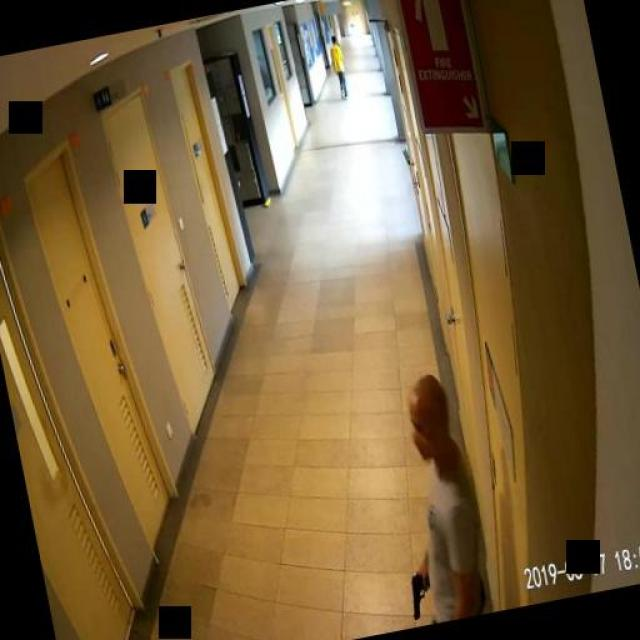gun: (404, 568, 435, 618)
